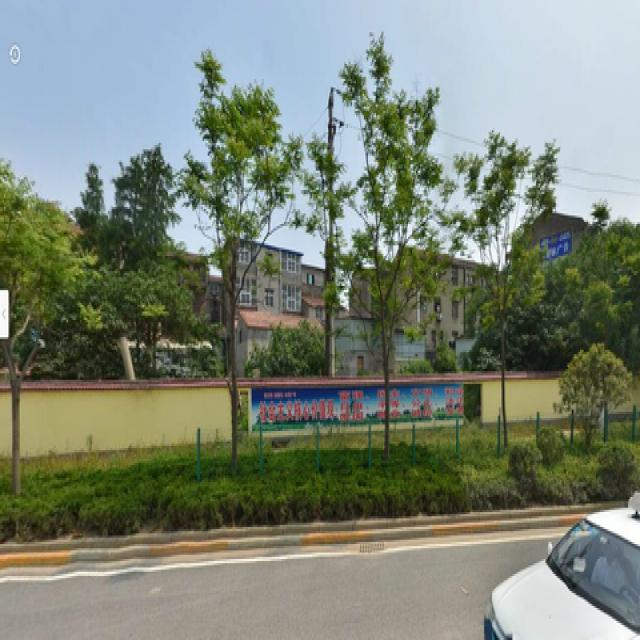koel: (329, 53, 451, 427)
